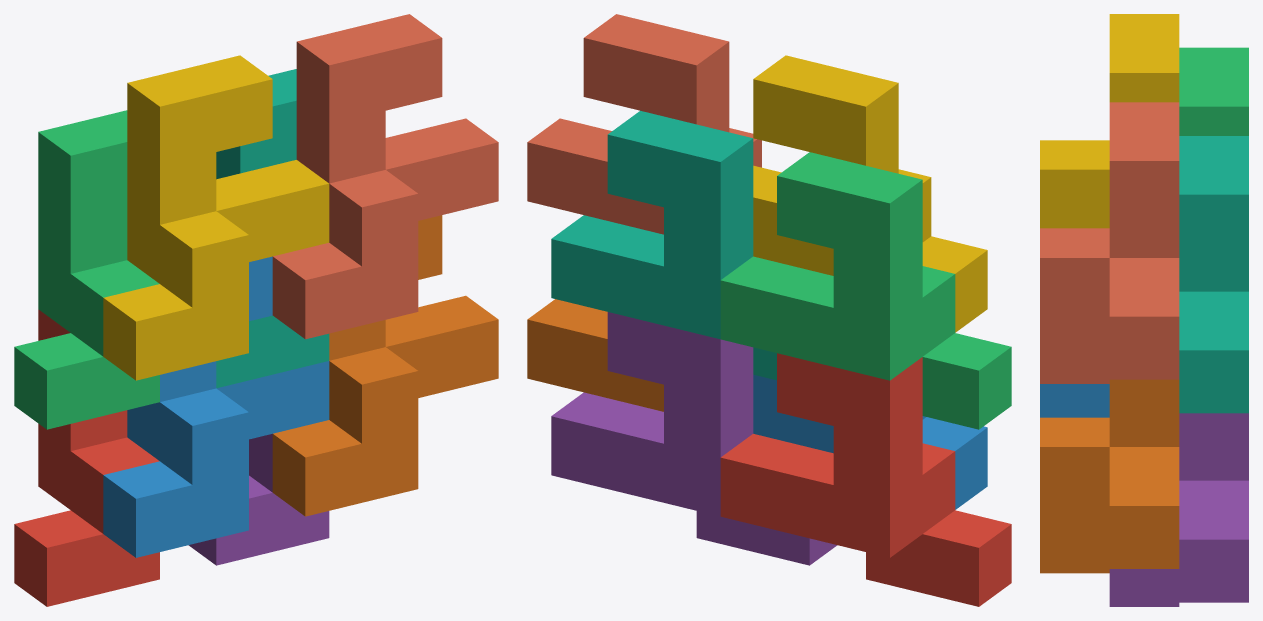
Rendered from tiling.obj.
The picture shows the model from 3 angles, left to right: view 1: azimuth 30°, elevation 25°; view 2: azimuth 150°, elevation 25°; view 3: azimuth 270°, elevation 25°; orthographic projection. The views are drawn at different scales.
Parts seen in each view (by area): view 1: copy_1_domain_4, copy_1_domain_8, copy_1_domain_6, copy_1_domain_3, copy_1_domain_2, copy_1_domain_1, copy_1_domain_7, copy_1_domain_5; view 2: copy_1_domain_3, copy_1_domain_1, copy_1_domain_7, copy_1_domain_5, copy_1_domain_8, copy_1_domain_4, copy_1_domain_6, copy_1_domain_2; view 3: copy_1_domain_8, copy_1_domain_6, copy_1_domain_7, copy_1_domain_5, copy_1_domain_4, copy_1_domain_3, copy_1_domain_2.
Part boxes in pixels (<box>): copy_1_domain_4: <box>103,55,329,380</box>; copy_1_domain_8: <box>272,14,498,339</box>; copy_1_domain_6: <box>272,215,498,516</box>; copy_1_domain_3: <box>14,110,159,429</box>; copy_1_domain_2: <box>103,256,329,557</box>; copy_1_domain_1: <box>14,309,159,606</box>; copy_1_domain_7: <box>216,69,329,388</box>; copy_1_domain_5: <box>188,434,329,565</box>; copy_1_domain_3: <box>720,152,1011,429</box>; copy_1_domain_1: <box>720,353,1011,606</box>; copy_1_domain_7: <box>551,110,776,380</box>; copy_1_domain_5: <box>551,312,837,565</box>; copy_1_domain_8: <box>527,14,761,234</box>; copy_1_domain_4: <box>753,55,987,332</box>; copy_1_domain_6: <box>527,299,663,411</box>; copy_1_domain_2: <box>753,374,987,509</box>; copy_1_domain_8: <box>1040,102,1179,383</box>; copy_1_domain_6: <box>1040,379,1179,573</box>; copy_1_domain_7: <box>1179,136,1248,413</box>; copy_1_domain_5: <box>1109,413,1248,606</box>; copy_1_domain_4: <box>1040,14,1179,228</box>; copy_1_domain_3: <box>1179,47,1248,135</box>; copy_1_domain_2: <box>1040,384,1109,417</box>.
Size of the model in its own units: 8 by 8 by 3.
